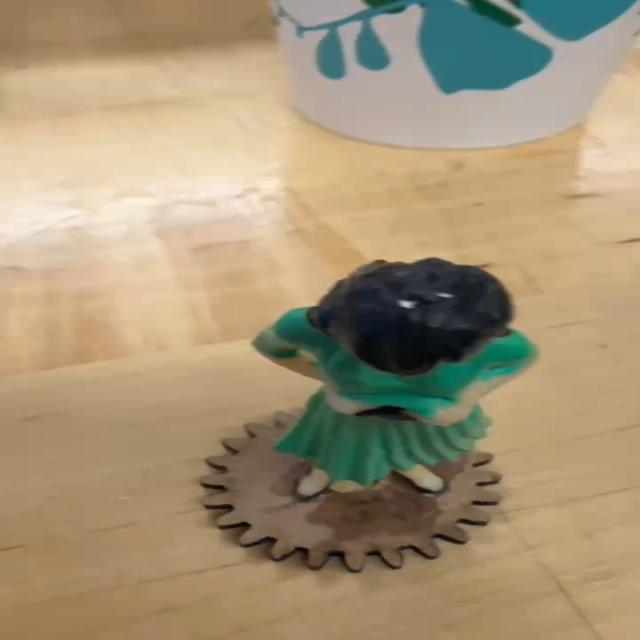Authorized: (240, 251, 550, 501)
